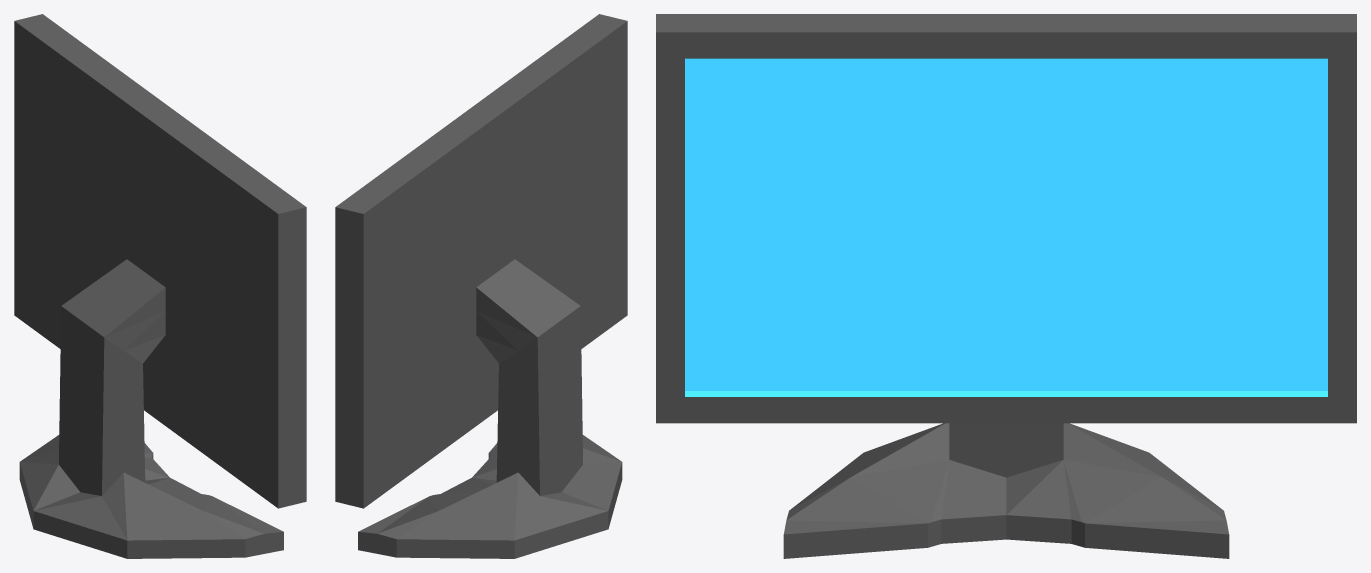
The model's file is Monitor_On.fbx.
3 views of the same model, side by side, from view 1: azimuth 30°, elevation 25°; view 2: azimuth 150°, elevation 25°; view 3: azimuth 270°, elevation 25° (orthographic). The views are drawn at different scales.
Parts seen in each view (by area): view 1: Monitor_On; view 2: Monitor_On; view 3: Monitor_On.
Part boxes in pixels (<box>): Monitor_On: <box>14,14,306,558</box>; Monitor_On: <box>335,14,627,558</box>; Monitor_On: <box>656,14,1356,558</box>.
Bounding box in the file's own units: 446 × 984 × 1225.
